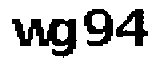4: (116, 6, 150, 49)
9: (83, 6, 115, 48)
g: (49, 16, 79, 60)
w: (8, 14, 52, 49)
